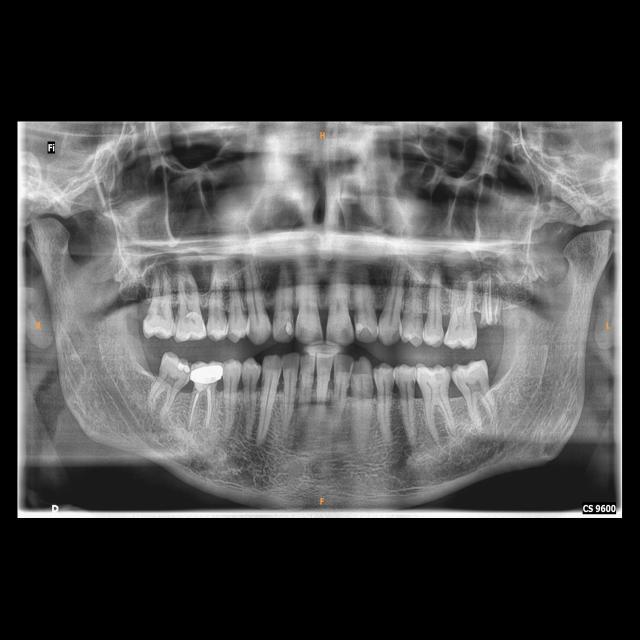kanal-tedavisi: (183, 384, 216, 426)
kaplama: (190, 359, 223, 389)
kirik: (480, 305, 502, 339)
